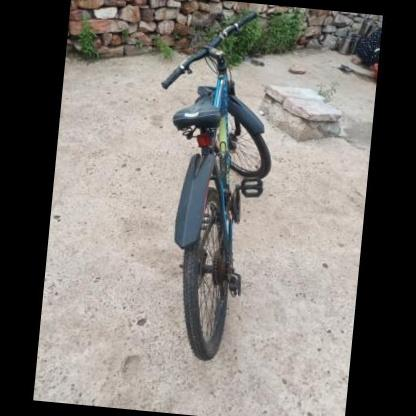Bicycle: (122, 52, 304, 358)
